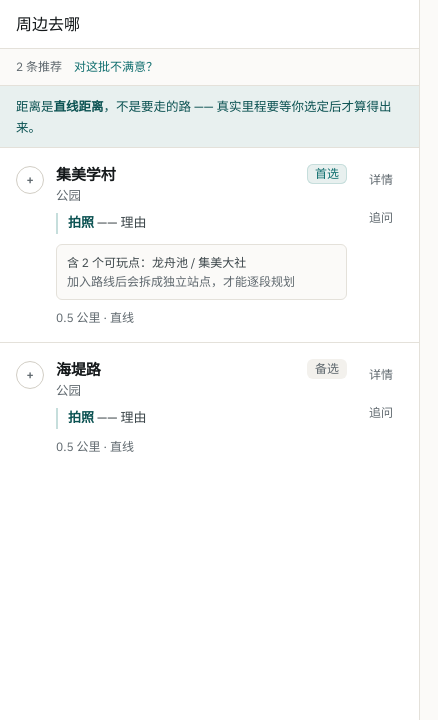
结果页 · 下一步引导 › 勾满 2 个后「看行程」出现，点它切到时间轴
Click the button named "选择 集美学村". click: (30,180)
box: [16, 166, 44, 194]
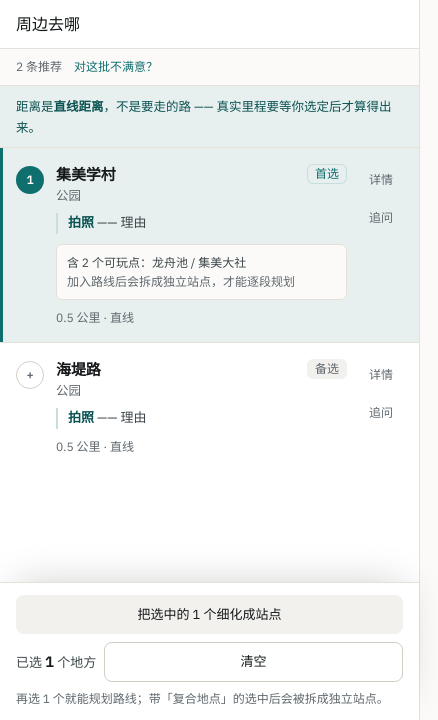
Click the button named "选择 海堤路". click: (30,375)
box: [16, 361, 44, 389]
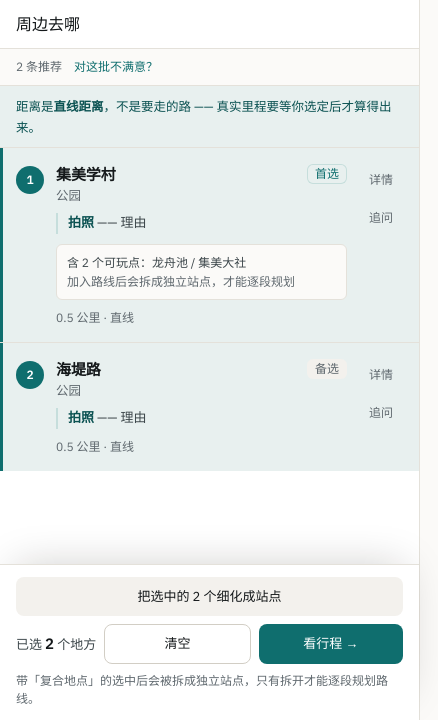
Click the button "看行程 →". click: (331,644)
box: [259, 624, 403, 664]
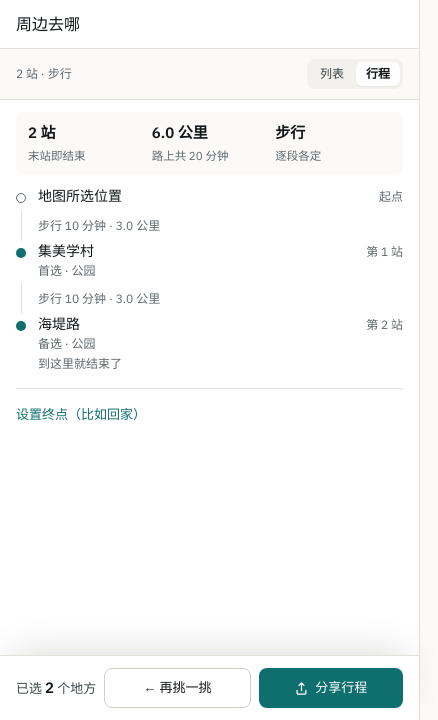
Expected: the text "路上共 20 分钟" is shown, [152, 148, 228, 162]
